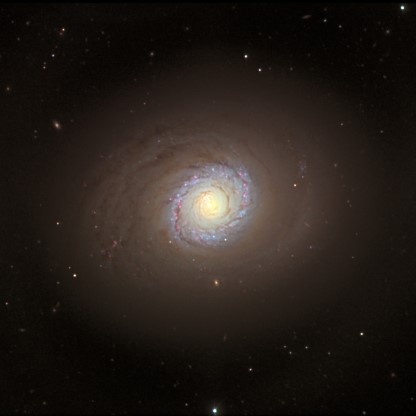Messier 94: (55, 85, 370, 322)
